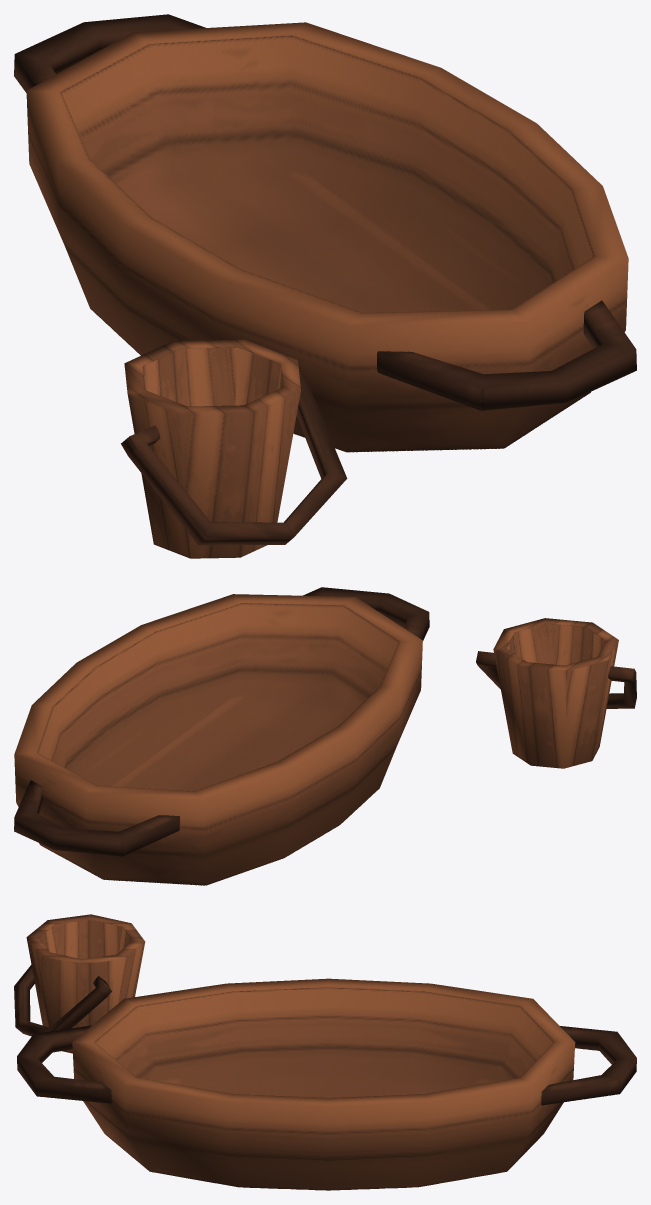
File: HD_Build_Harvester_WaterCollector_2x2_Mesh001.FBX
The picture shows the model from 3 angles, top to bottom: view 1: azimuth 30°, elevation 25°; view 2: azimuth 150°, elevation 25°; view 3: azimuth 270°, elevation 25°; orthographic projection. The views are drawn at different scales.
Visible parts, largest first — view 1: Object037; view 2: Object037; view 3: Object037.
Part boxes in pixels (x1,y1,x2,y2): Object037: (14,14,636,558); Object037: (14,587,636,885); Object037: (14,914,636,1190).
Bounding box in the file's own units: 132 × 32 × 181.
1 material, 1 textured.
